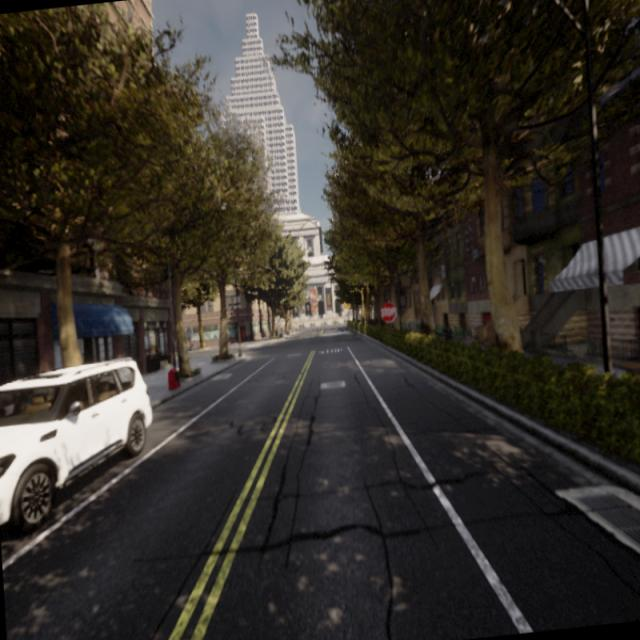stop sign: (378, 298, 398, 325)
